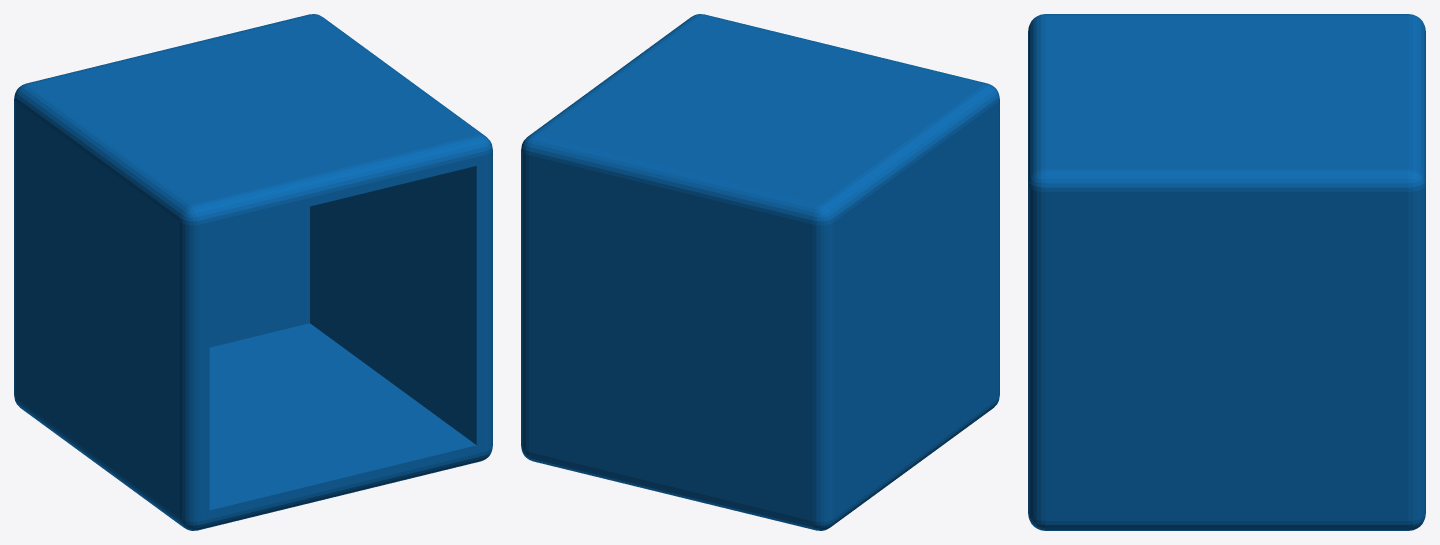
The model's file is colorbox.fbx.
The picture shows the model from 3 angles, left to right: view 1: azimuth 30°, elevation 25°; view 2: azimuth 150°, elevation 25°; view 3: azimuth 270°, elevation 25°; orthographic projection. The views are drawn at different scales.
Visible parts, largest first — view 1: cube; view 2: cube; view 3: cube.
Boxes of the visible parts, x1,y1,x2,y2 form: cube: (14, 14, 492, 530); cube: (521, 14, 999, 530); cube: (1028, 14, 1425, 530).
Size of the model in its own units: 35.5 by 35.5 by 35.5.
